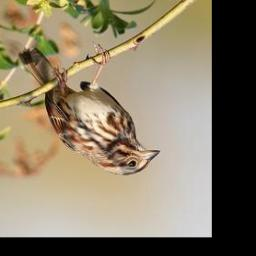Sparrow: (17, 41, 160, 177)
